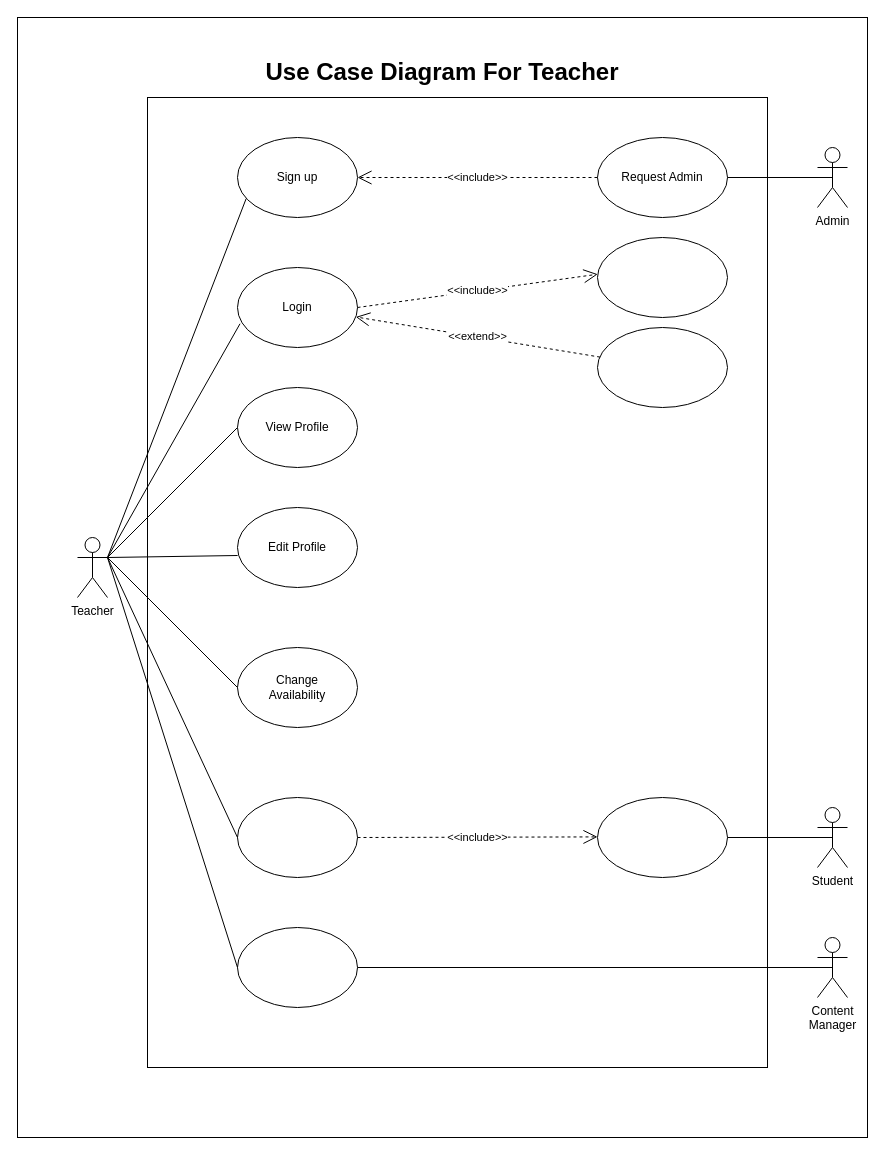
Image size: 885x1155. Some labels were removed from this diagram. The shapes that lost their labels are listed below. From the top down, each one's box as (x1, y1, x2, y2) in pixels, then its label:
(596, 236, 728, 318): Verify Password
(596, 326, 728, 408): Forgot Password
(236, 796, 358, 878): Answer Questions
(596, 796, 728, 878): Notify Student
(236, 926, 358, 1008): Submit Questions
